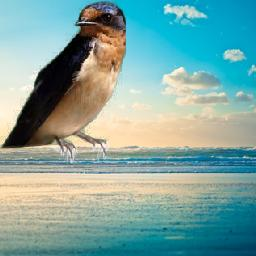Swallow: (0, 1, 126, 164)
